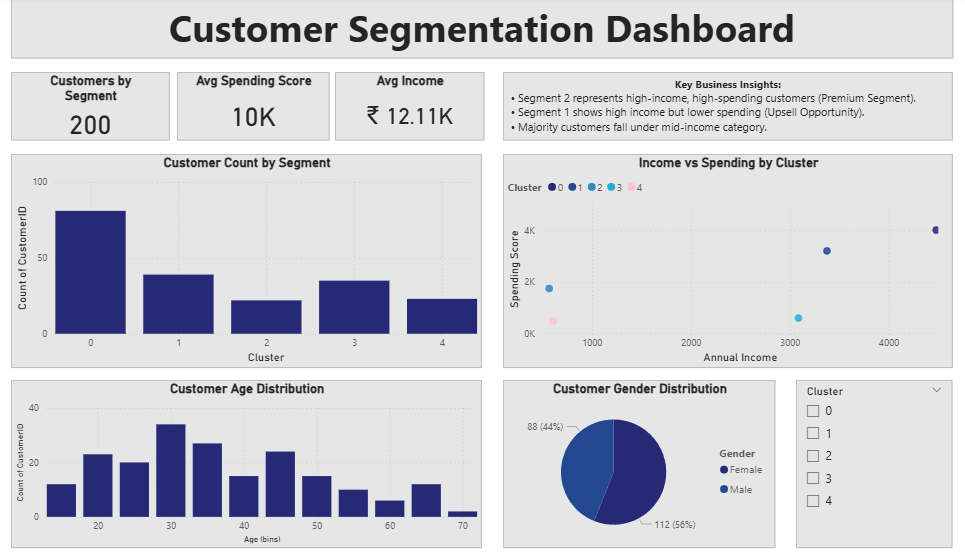

This screenshot's page, from the dashboard's own definition file:
{"tool":"powerbi","page":{"name":"Customer Segmentation – KMeans Analysis","canvas":[1280,720],"ordinal":0},"visuals":[{"type":"card","title":"Customers by Segment","fields":{"Values":["CountNonNull(Customer_Segmentation_Final.CustomerID)"]},"box":[32,95.9,203.8,87.9],"z":0},{"type":"textbox","box":[32,0,1210.7,78.6],"z":1000},{"type":"card","title":"Avg Income","fields":{"Values":["Sum(Customer_Segmentation_Final.Annual_Income)"]},"box":[448.9,95.9,191.8,87.9],"z":2000},{"type":"card","title":"Avg Spending Score","fields":{"Values":["Sum(Customer_Segmentation_Final.Spending_Score)"]},"box":[245.1,95.9,195.8,87.9],"z":3000},{"type":"clusteredColumnChart","title":"Customer Count by Segment","fields":{"Category":["Customer_Segmentation_Final.Cluster"],"Y":["CountNonNull(Customer_Segmentation_Final.CustomerID)"]},"box":[32.1,201.8,605.3,275],"z":4000},{"type":"scatterChart","title":"Income vs Spending by Cluster","fields":{"X":["Sum(Customer_Segmentation_Final.Annual_Income)"],"Y":["Sum(Customer_Segmentation_Final.Spending_Score)"],"Series":["Customer_Segmentation_Final.Cluster"]},"box":[664.4,201.8,578.3,275],"z":5000},{"type":"pieChart","title":"Customer Gender Distribution","fields":{"Category":["Customer_Segmentation_Final.Gender"],"Y":["CountNonNull(Customer_Segmentation_Final.CustomerID)"]},"box":[664.6,492.8,350.3,215.8],"z":6000},{"type":"clusteredColumnChart","title":"Customer Age Distribution","fields":{"Category":["Customer_Segmentation_Final.Age (bins)"],"Y":["CountNonNull(Customer_Segmentation_Final.CustomerID)"]},"box":[32.1,492.2,605.3,215.9],"z":7000},{"type":"slicer","fields":{"Values":["Customer_Segmentation_Final.Cluster"]},"box":[1041.6,492.8,201.1,215.8],"z":8000},{"type":"textbox","box":[664.6,95.9,578.1,87.9],"z":9000}]}

Visuals, with their boxes in screenshot pixels (x1, y1, x2, y2), scaled from the page's 1280x720 canvas onto the 965x557 screenshot:
"Customers by Segment" card: crop(24, 74, 178, 142)
textbox: crop(24, 0, 937, 61)
"Avg Income" card: crop(338, 74, 483, 142)
"Avg Spending Score" card: crop(185, 74, 332, 142)
"Customer Count by Segment" clusteredColumnChart: crop(24, 156, 481, 369)
"Income vs Spending by Cluster" scatterChart: crop(501, 156, 937, 369)
"Customer Gender Distribution" pieChart: crop(501, 381, 765, 548)
"Customer Age Distribution" clusteredColumnChart: crop(24, 381, 481, 548)
slicer - Customer_Segmentation_Final.Cluster: crop(785, 381, 937, 548)
textbox: crop(501, 74, 937, 142)
